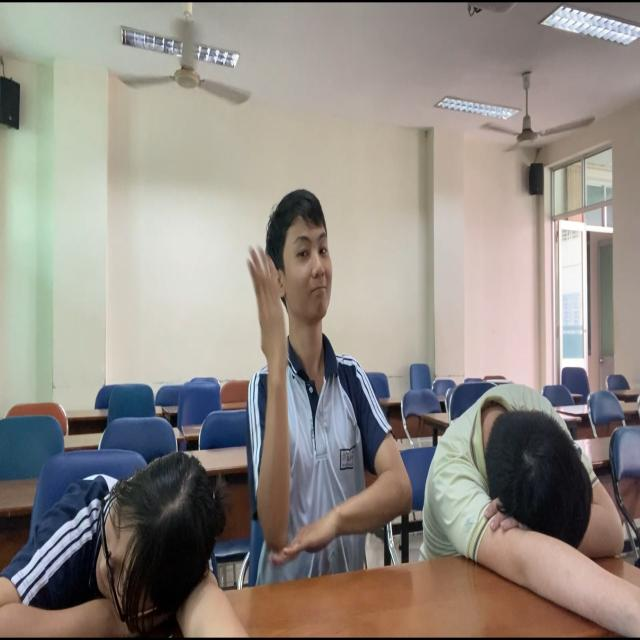raise_hand: (241, 179, 389, 534)
sleep: (1, 409, 270, 633), (434, 372, 640, 636)
